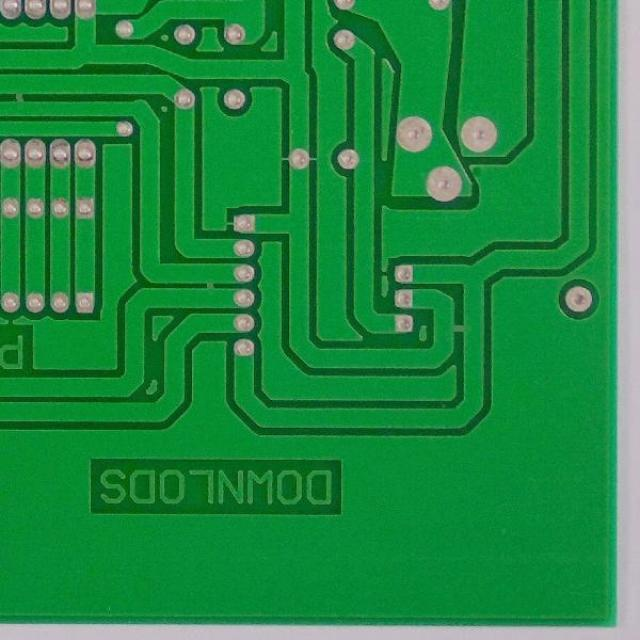short: (431, 303, 479, 353), (2, 77, 43, 118), (193, 266, 229, 306)
